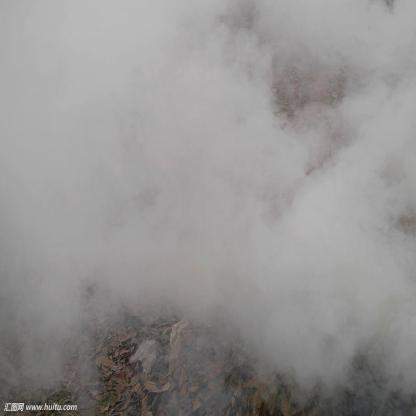smoke: (3, 82, 178, 193), (222, 269, 408, 362), (85, 194, 206, 302), (248, 192, 410, 268), (3, 196, 82, 336), (180, 82, 270, 198), (268, 6, 406, 68), (104, 12, 218, 84), (4, 10, 101, 80), (350, 90, 413, 187)
